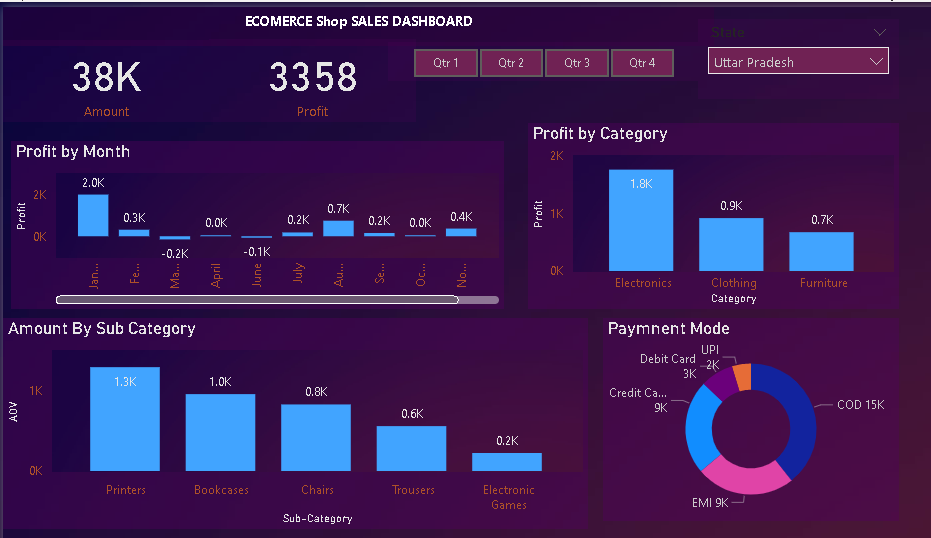

The page's visual inventory and layout, read from the dashboard file:
{"tool":"powerbi","page":{"name":"Page 1","canvas":[1280,720],"ordinal":0},"visuals":[{"type":"columnChart","title":"Amount By Sub Category","fields":{"Category":["Details.Sub-Category"],"Y":["Sum(Details.AOV)"]},"box":[0,311,585,211],"z":0},{"type":"textbox","box":[0,0,711,39],"z":1000},{"type":"columnChart","fields":{"Category":["Orders.Order Date.Variation.Date Hierarchy.Month"],"Y":["Sum(Details.Profit)"]},"box":[8,134,493,168],"z":2000},{"type":"card","fields":{"Values":["Sum(Details.Amount)"]},"box":[0,32.7,206.4,82.7],"z":3000},{"type":"donutChart","title":"Paymnent Mode","fields":{"Category":["Details.PaymentMode"],"Y":["Sum(Details.Amount)"]},"box":[600,311,296,203],"z":4000},{"type":"columnChart","fields":{"Category":["Details.Category"],"Y":["Sum(Details.Profit)"]},"box":[525,116,371,186],"z":5000},{"type":"card","fields":{"Values":["Sum(Details.Profit)"]},"box":[206,32,207,83],"z":6000},{"type":"slicer","fields":{"Values":["Orders.Order Date.Variation.Date Hierarchy.Quarter"]},"box":[385,35,310,39],"z":7000},{"type":"slicer","fields":{"Values":["Orders.State"]},"box":[695,12,201,80],"z":7001}]}

Visuals, with their boxes in screenshot pixels (x1, y1, x2, y2), scaled from the page's 1280x720 canvas onto the 931x538 screenshot:
"Amount By Sub Category" columnChart: bbox(0, 232, 425, 390)
textbox: bbox(0, 0, 517, 29)
columnChart - Orders.Order Date.Variation.Date Hierarchy.Month x Sum(Details.Profit): bbox(6, 100, 364, 226)
card - Sum(Details.Amount): bbox(0, 24, 150, 86)
"Paymnent Mode" donutChart: bbox(436, 232, 652, 384)
columnChart - Details.Category x Sum(Details.Profit): bbox(382, 87, 652, 226)
card - Sum(Details.Profit): bbox(150, 24, 300, 86)
slicer - Orders.Order Date.Variation.Date Hierarchy.Quarter: bbox(280, 26, 506, 55)
slicer - Orders.State: bbox(506, 9, 652, 69)
